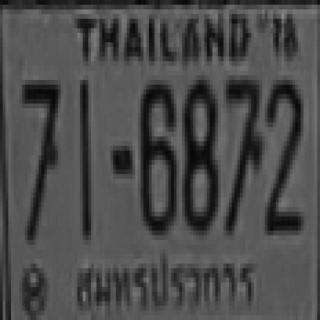N01: (79, 78, 90, 238)
N02: (265, 75, 301, 231)
N06: (139, 80, 175, 230)
N07: (19, 75, 58, 240), (224, 75, 259, 231), (19, 75, 58, 193)
N08: (182, 75, 215, 231)
P57: (69, 244, 258, 320)
